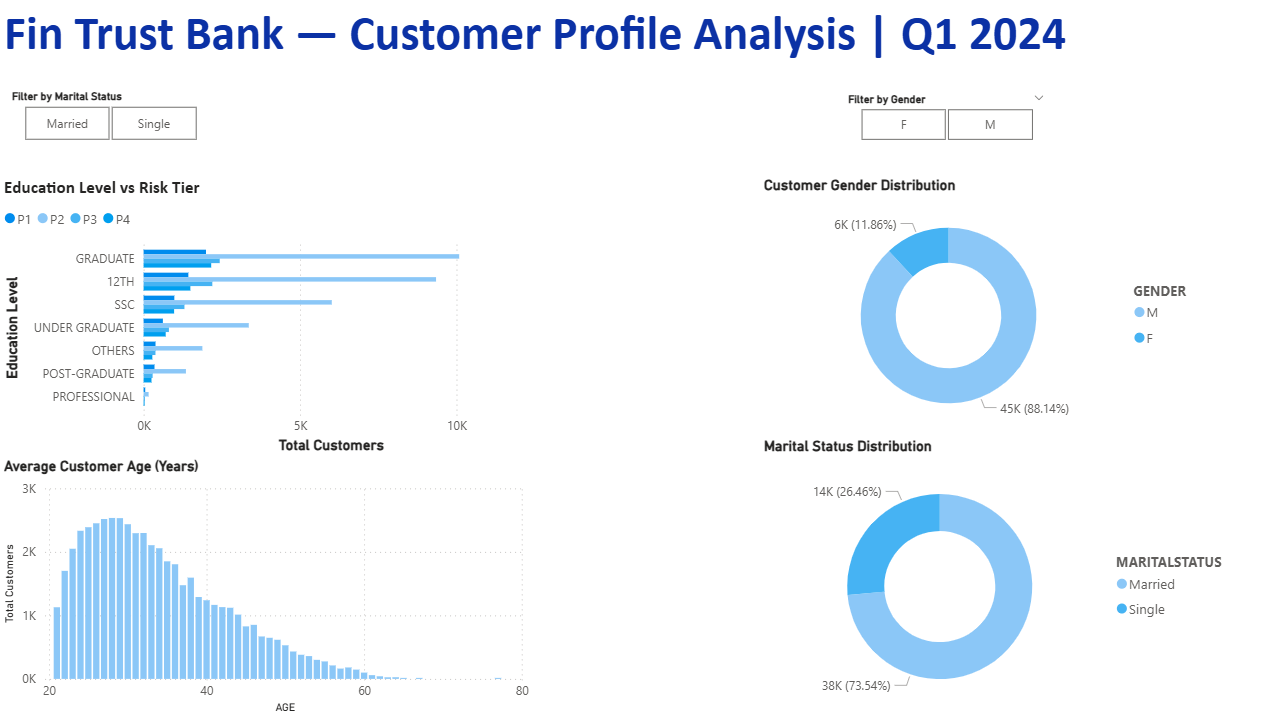

The dashboard page shown, as its layout file describes it:
{"tool":"powerbi","page":{"name":"Customer Profile","canvas":[1280,720],"ordinal":3},"visuals":[{"type":"clusteredBarChart","title":" Education Level vs Risk Tier","fields":{"Category":["fintrust_db external_cibil_data.EDUCATION"],"Y":["fintrust_db external_cibil_data.Total Customers"],"Series":["fintrust_db external_cibil_data.Approved_Flag"]},"box":[0,177.5,535.3,281.3],"z":0},{"type":"donutChart","title":" Customer Gender Distribution","fields":{"Category":["fintrust_db external_cibil_data.GENDER"],"Y":["fintrust_db external_cibil_data.Total Customers"]},"box":[760.6,177.3,452.4,261.7],"z":1000},{"type":"clusteredColumnChart","title":" Average Customer Age (Years)","fields":{"Category":["fintrust_db external_cibil_data.AGE"],"Y":["fintrust_db external_cibil_data.Total Customers"]},"box":[0,458.8,535.3,261.1],"z":2000},{"type":"donutChart","title":" Marital Status Distribution","fields":{"Category":["fintrust_db external_cibil_data.MARITALSTATUS"],"Y":["fintrust_db external_cibil_data.Total Customers"]},"box":[760.3,438.6,481.9,281.3],"z":3000},{"type":"slicer","fields":{"Values":["fintrust_db external_cibil_data.GENDER"]},"box":[836.4,89.3,221.3,58.7],"z":4000},{"type":"slicer","fields":{"Values":["fintrust_db external_cibil_data.MARITALSTATUS"]},"box":[0,86.8,221.3,61.1],"z":5000},{"type":"textbox","box":[0,0,1169,69.7],"z":6000}]}

Visuals, with their boxes in screenshot pixels (x1, y1, x2, y2), scaled from the page's 1280x720 canvas onto the 1278x718 screenshot:
" Education Level vs Risk Tier" clusteredBarChart: select_region(0, 177, 534, 458)
" Customer Gender Distribution" donutChart: select_region(759, 177, 1211, 438)
" Average Customer Age (Years)" clusteredColumnChart: select_region(0, 458, 534, 717)
" Marital Status Distribution" donutChart: select_region(759, 437, 1240, 717)
slicer - fintrust_db external_cibil_data.GENDER: select_region(835, 89, 1056, 148)
slicer - fintrust_db external_cibil_data.MARITALSTATUS: select_region(0, 87, 221, 147)
textbox: select_region(0, 0, 1167, 70)
